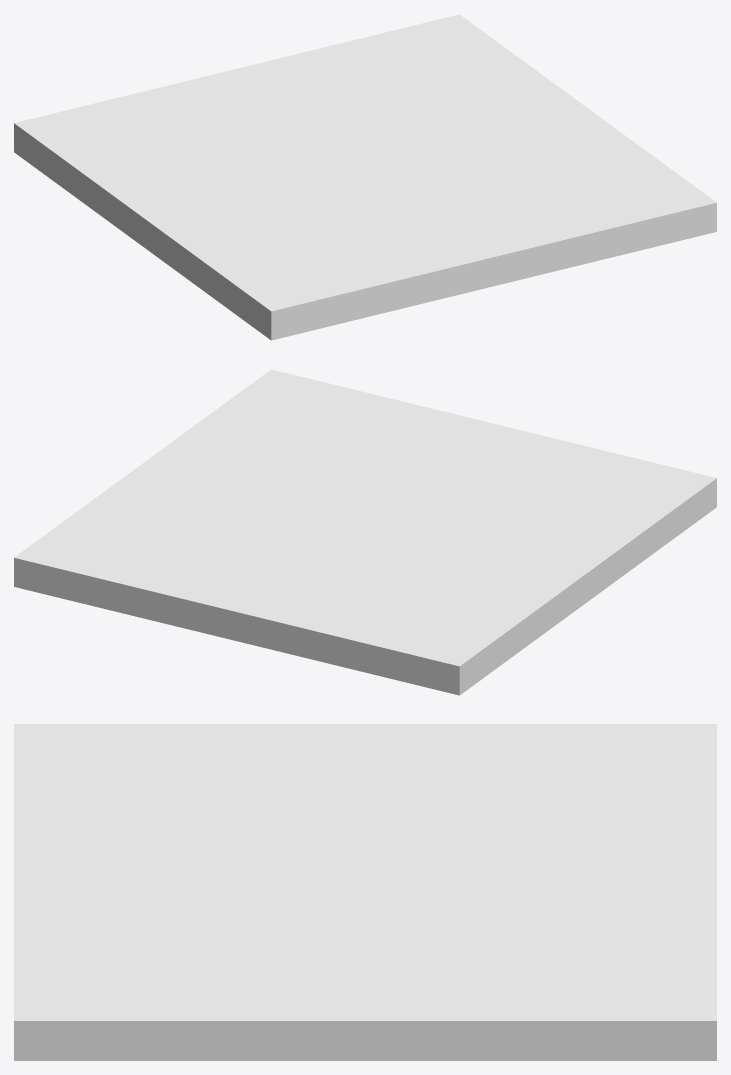
Rendered from road.obj.
3 views of the same model, one above another, from view 1: azimuth 30°, elevation 25°; view 2: azimuth 150°, elevation 25°; view 3: azimuth 270°, elevation 25° (orthographic). The views are drawn at different scales.
Visible parts, largest first — view 1: road; view 2: road; view 3: road.
Part boxes in pixels (x1=…): road: x1=14, y1=14, x2=716, y2=340; road: x1=14, y1=369, x2=716, y2=695; road: x1=14, y1=724, x2=716, y2=1060.
Bounding box in the file's own units: 16 × 1 × 16.
